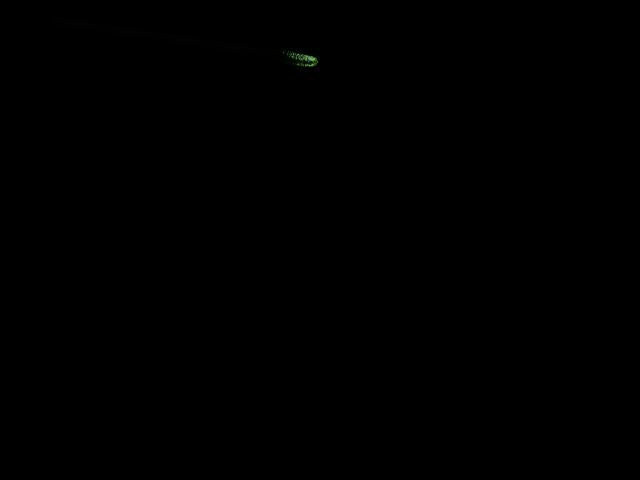cucumber: (275, 48, 318, 68)
